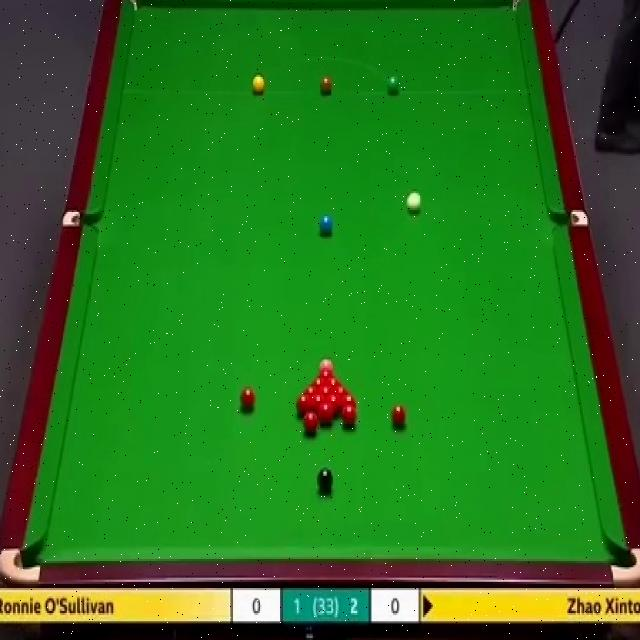black-ball: (317, 466, 333, 494)
blue-ball: (319, 214, 333, 233)
brown-ball: (319, 77, 333, 94)
green-ball: (386, 73, 401, 97)
pink-ball: (319, 358, 335, 376)
red-ball: (390, 402, 407, 435), (296, 392, 313, 418), (239, 386, 256, 412), (339, 406, 359, 428), (302, 410, 319, 432), (324, 394, 342, 414), (340, 394, 357, 414), (319, 402, 334, 424), (303, 384, 320, 398), (333, 384, 349, 398), (319, 384, 333, 399), (313, 396, 324, 415), (326, 374, 339, 390), (312, 376, 327, 389)
white-ball: (405, 190, 421, 210)
yellow-ball: (251, 74, 266, 95)
